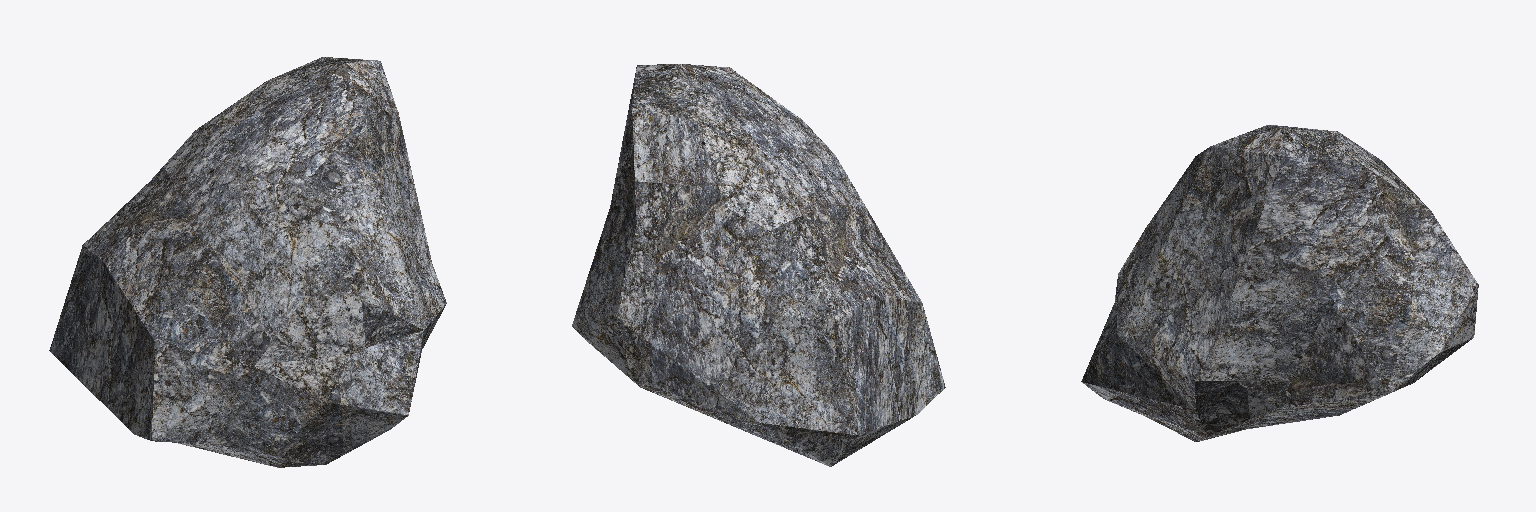
3 views of the same model, side by side, from view 1: azimuth 30°, elevation 25°; view 2: azimuth 150°, elevation 25°; view 3: azimuth 270°, elevation 25° (orthographic).
Parts seen in each view (by area): view 1: Cube; view 2: Cube; view 3: Cube.
Boxes of the visible parts, x1,y1,x2,y2 form: Cube: [49, 57, 446, 467]; Cube: [572, 64, 945, 466]; Cube: [1081, 125, 1478, 441].
Size of the model in its own units: 3.98 by 4.37 by 4.61.
Materials: 1 (1 with a texture image).